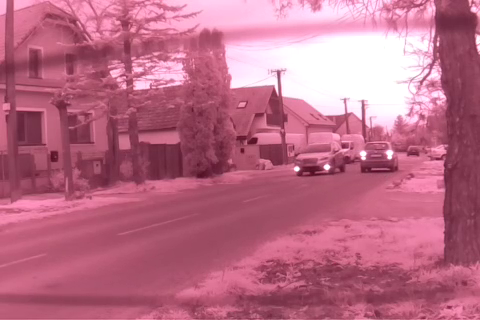car: (292, 141, 345, 177), (360, 141, 396, 173), (404, 144, 421, 158)
